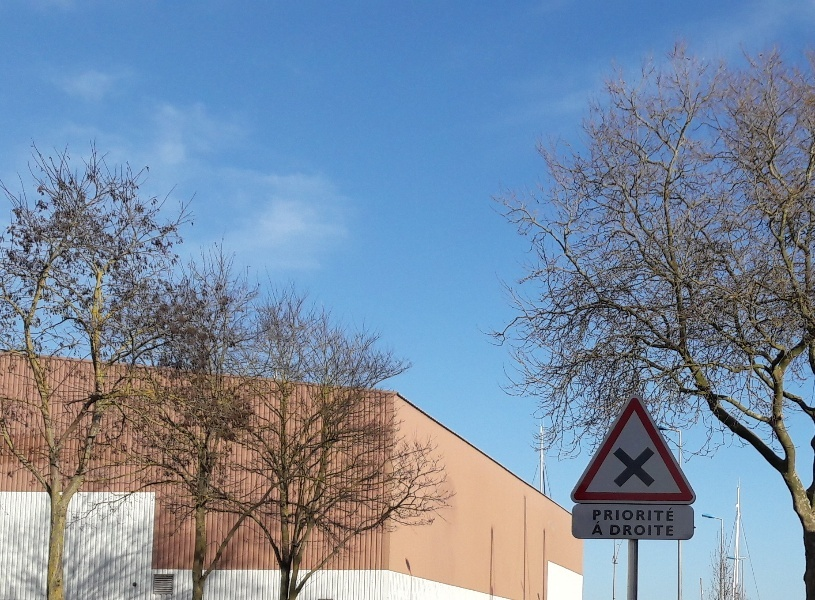text: (609, 507, 624, 521), (625, 507, 640, 521), (641, 507, 656, 521), (657, 507, 672, 521), (593, 521, 608, 535), (594, 507, 608, 521), (625, 525, 640, 536), (641, 525, 656, 536), (657, 525, 672, 536), (611, 525, 624, 536), (673, 507, 675, 521), (673, 525, 674, 536)
